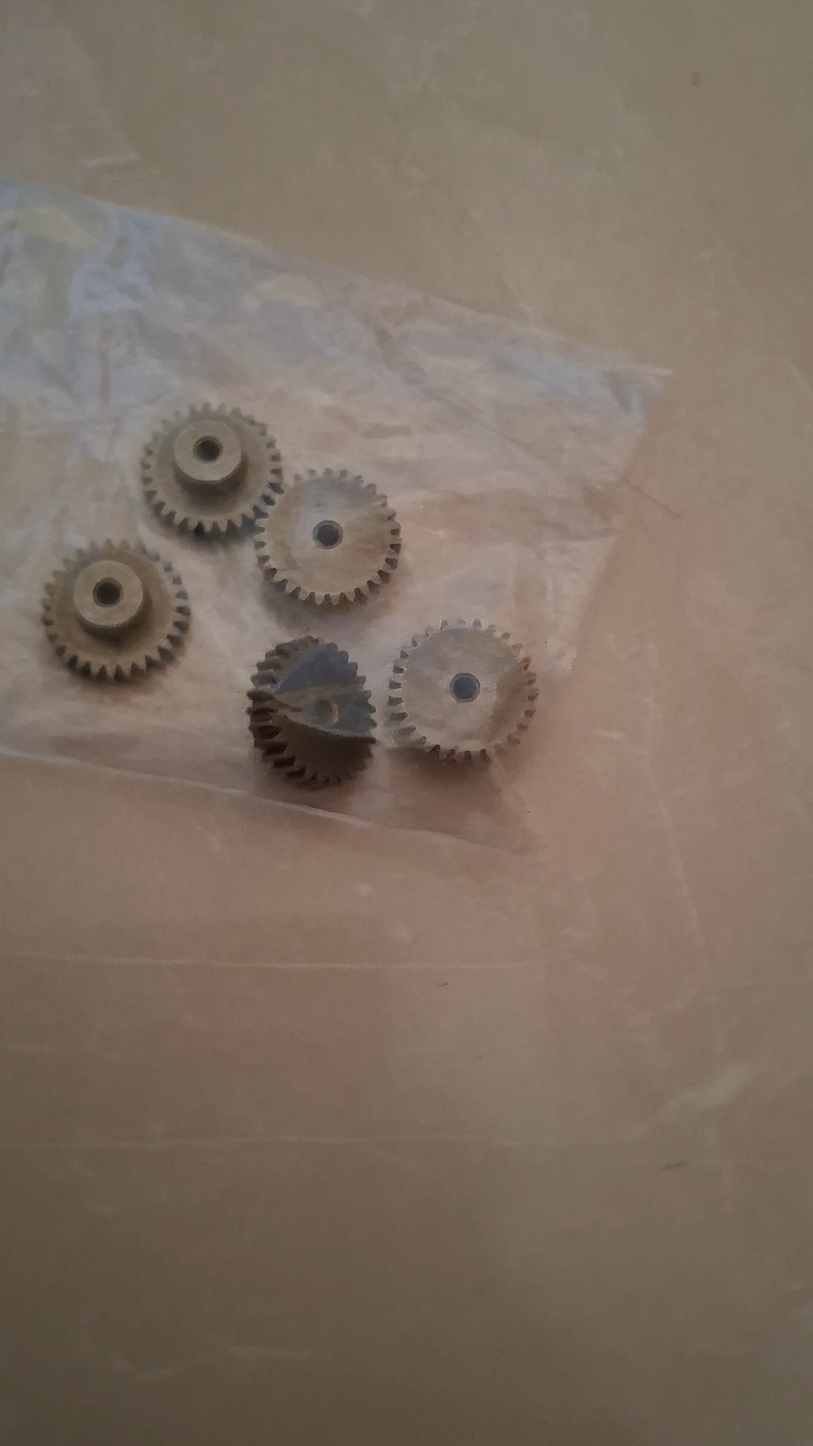spur gear: (388, 621, 537, 760), (43, 541, 190, 679), (255, 470, 400, 604), (248, 636, 375, 787), (141, 405, 282, 536)
